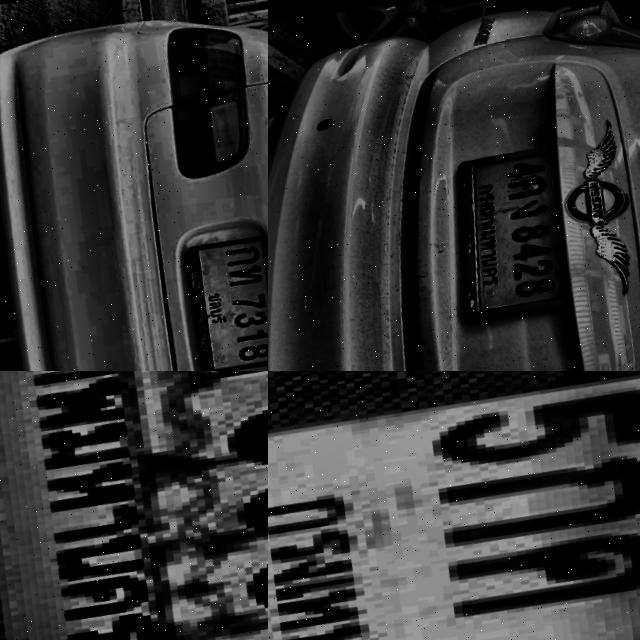license-plate: (268, 371, 640, 640), (0, 371, 268, 640), (432, 136, 594, 325), (177, 226, 268, 371)
